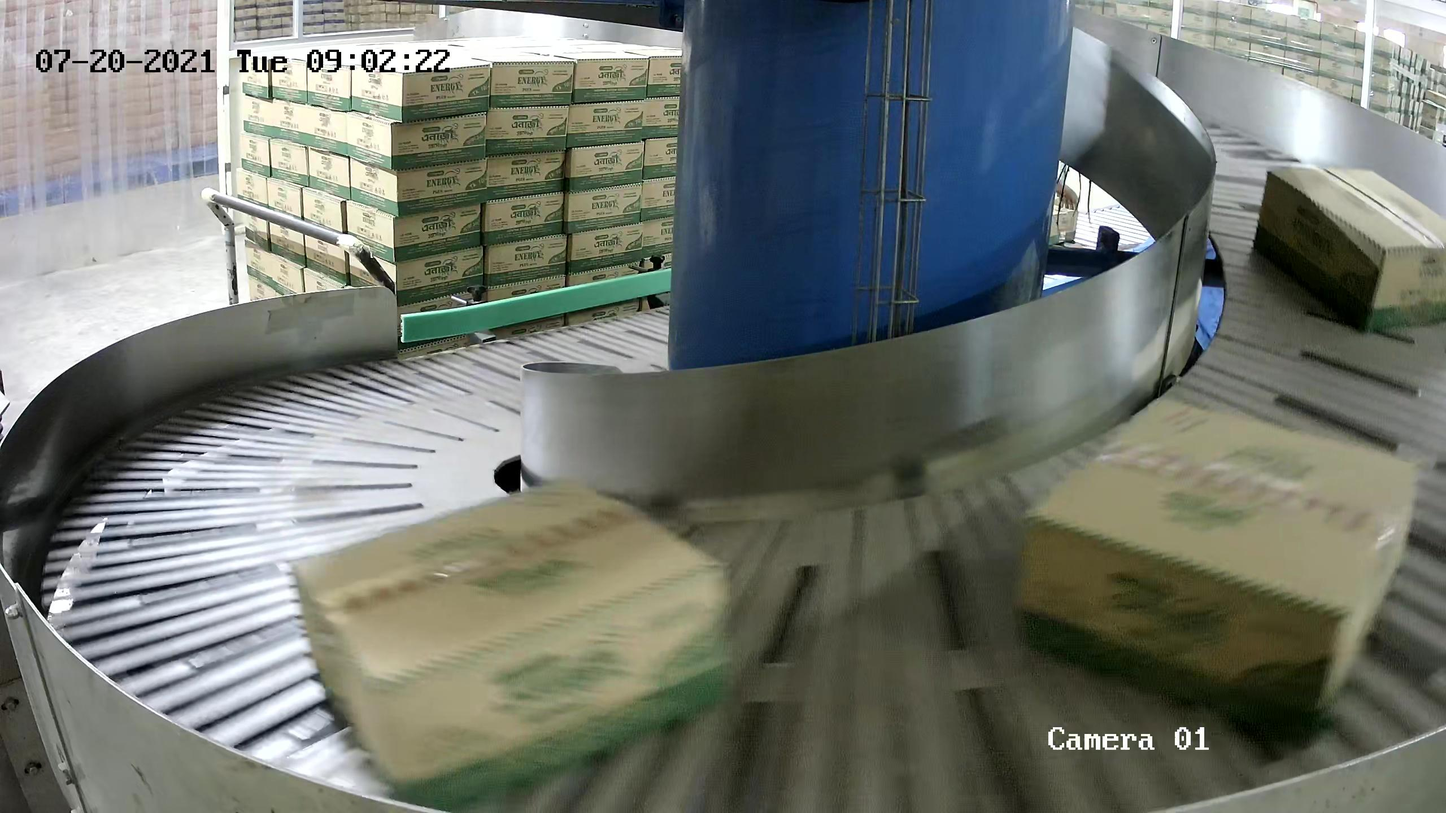Box: (1012, 395, 1424, 754), (291, 475, 727, 813), (1252, 165, 1446, 338)
